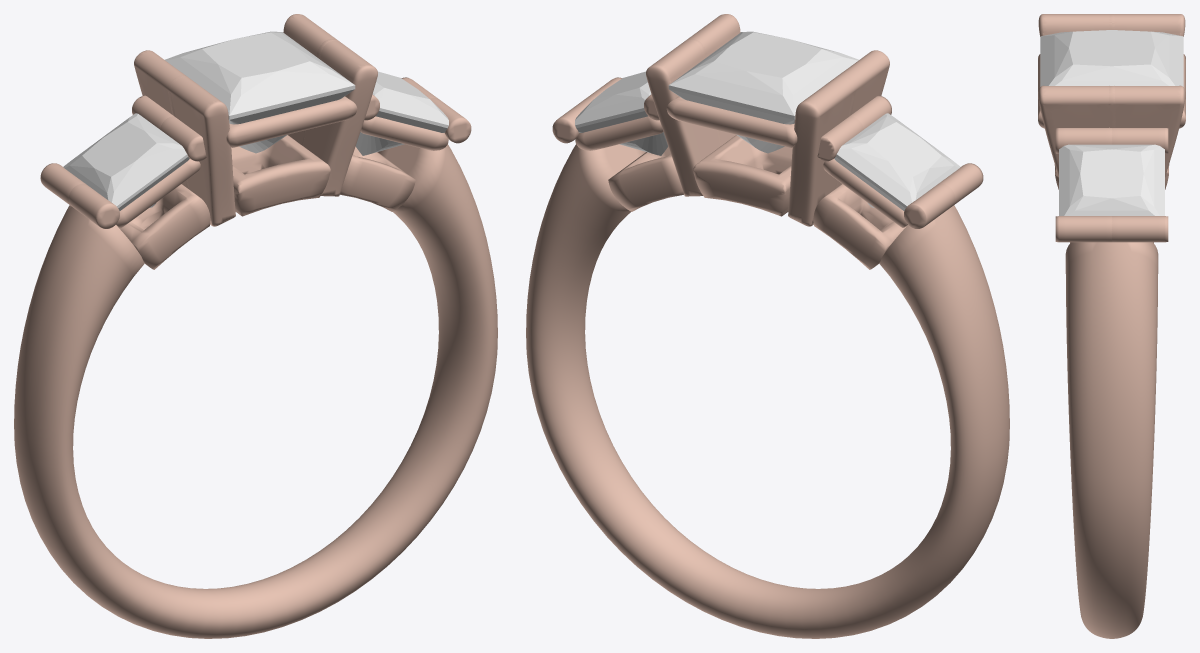
File: diamond-princess-rosegold-halfmoonbezel-taperedband-3stone.glb
3 views of the same model, side by side, from view 1: azimuth 30°, elevation 25°; view 2: azimuth 150°, elevation 25°; view 3: azimuth 270°, elevation 25° (orthographic).
Parts seen in each view (by area): view 1: metal, stone, side.002, side; view 2: metal, stone, side.002, side; view 3: metal, stone, side.
Part boxes in pixels (bbox=[...]): metal: bbox=[14, 14, 497, 638]; stone: bbox=[165, 31, 355, 153]; side.002: bbox=[63, 113, 189, 210]; side: bbox=[355, 71, 448, 155]; metal: bbox=[526, 14, 1009, 638]; stone: bbox=[668, 31, 858, 153]; side.002: bbox=[834, 113, 960, 210]; side: bbox=[575, 71, 668, 155]; metal: bbox=[1038, 14, 1185, 638]; stone: bbox=[1040, 30, 1183, 86]; side: bbox=[1059, 144, 1164, 215].
Size of the model in its own units: 20.09 by 23.65 by 5.6.
